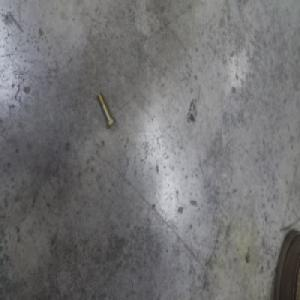Bolt: (95, 91, 114, 132)
